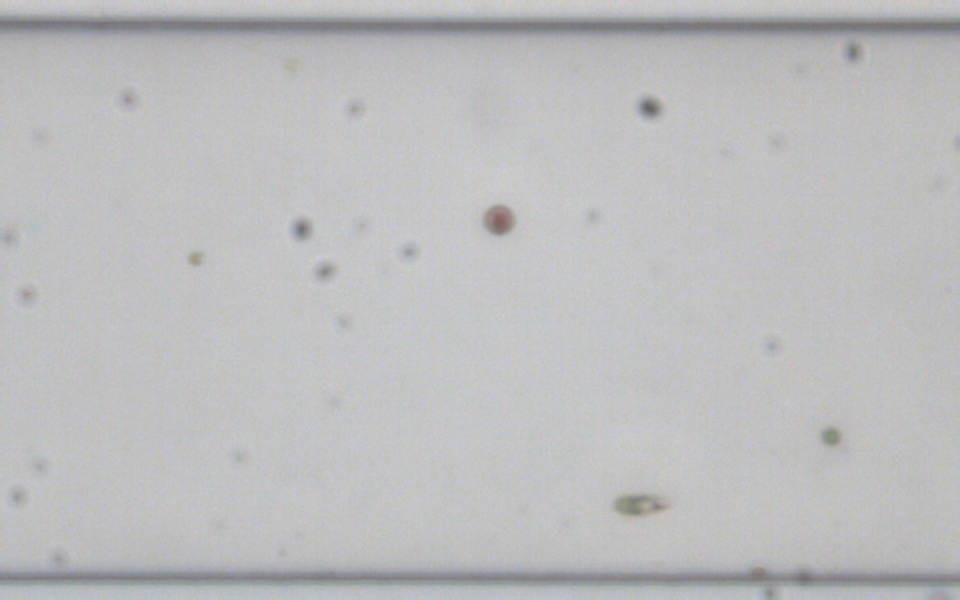Chlorella: (820, 425, 840, 446), (186, 250, 203, 266)
Dunaliella salina: (610, 491, 670, 516)
Porphyridium: (479, 200, 516, 235)
